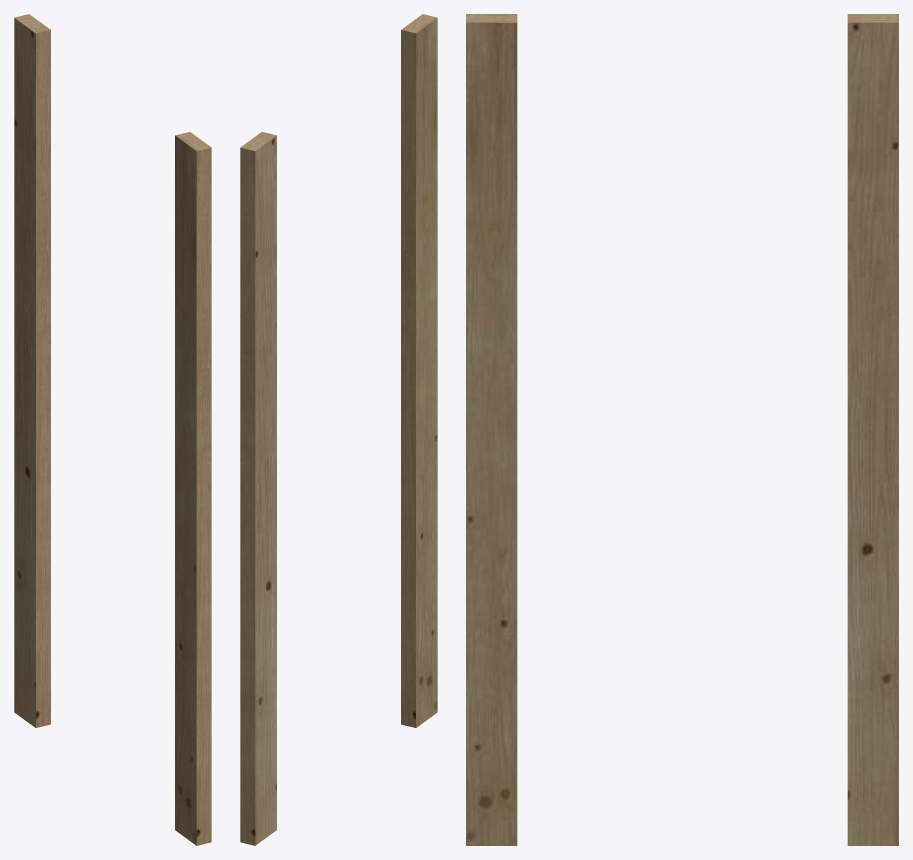
The model's file is Joglo_part_110.fbx.
3 views of the same model, side by side, from view 1: azimuth 30°, elevation 25°; view 2: azimuth 150°, elevation 25°; view 3: azimuth 270°, elevation 25° (orthographic). The views are drawn at different scales.
Parts seen in each view (by area): view 1: Mesh197_Wood___Pine_Grained_Horizontal_0.001; view 2: Mesh197_Wood___Pine_Grained_Horizontal_0.001; view 3: Mesh197_Wood___Pine_Grained_Horizontal_0.001.
Boxes of the visible parts, box(x1,y1,x2,y2) form: Mesh197_Wood___Pine_Grained_Horizontal_0.001: box(14, 14, 211, 845); Mesh197_Wood___Pine_Grained_Horizontal_0.001: box(240, 14, 437, 845); Mesh197_Wood___Pine_Grained_Horizontal_0.001: box(466, 14, 898, 845).
Size of the model in its own units: 1.57 by 69.76 by 33.23.
